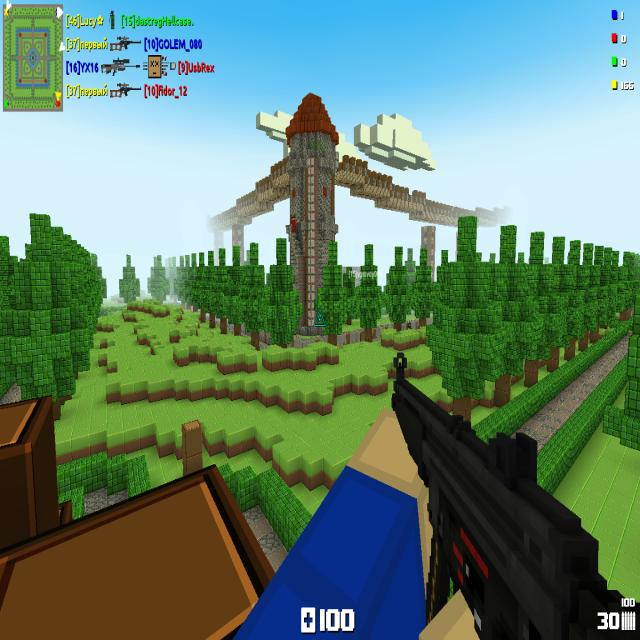enemy: (292, 216, 296, 232)
